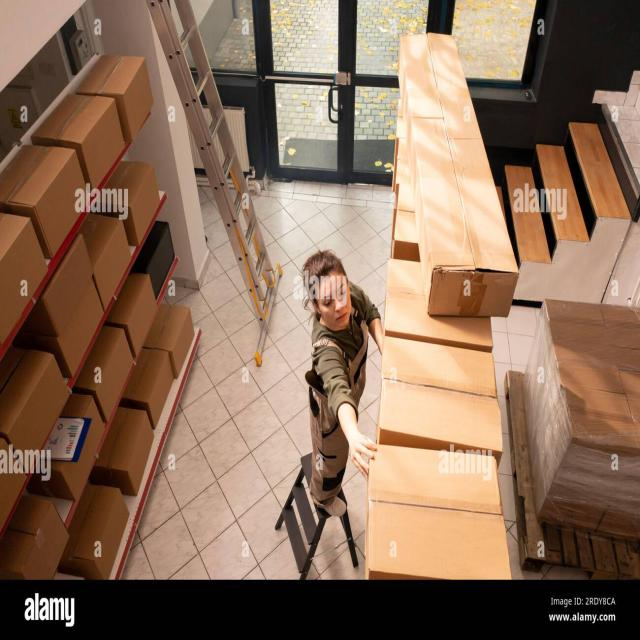box: (393, 20, 528, 310), (356, 426, 534, 580), (368, 329, 535, 456), (379, 250, 517, 353), (1, 136, 86, 237), (51, 76, 125, 168), (70, 482, 130, 585), (17, 343, 62, 469), (103, 404, 164, 494), (59, 301, 120, 390), (85, 47, 160, 119), (19, 493, 70, 597), (82, 202, 140, 290), (105, 163, 169, 240), (65, 388, 102, 507), (151, 210, 189, 302), (51, 244, 94, 319), (136, 342, 178, 414), (151, 303, 207, 355), (101, 327, 133, 407), (132, 268, 156, 351)
